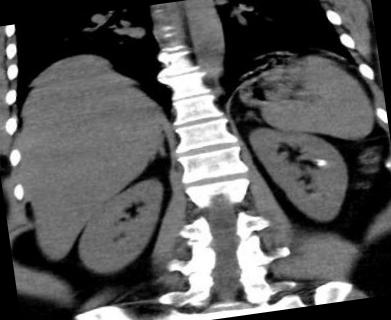Tas_Var: (316, 158, 326, 166)
